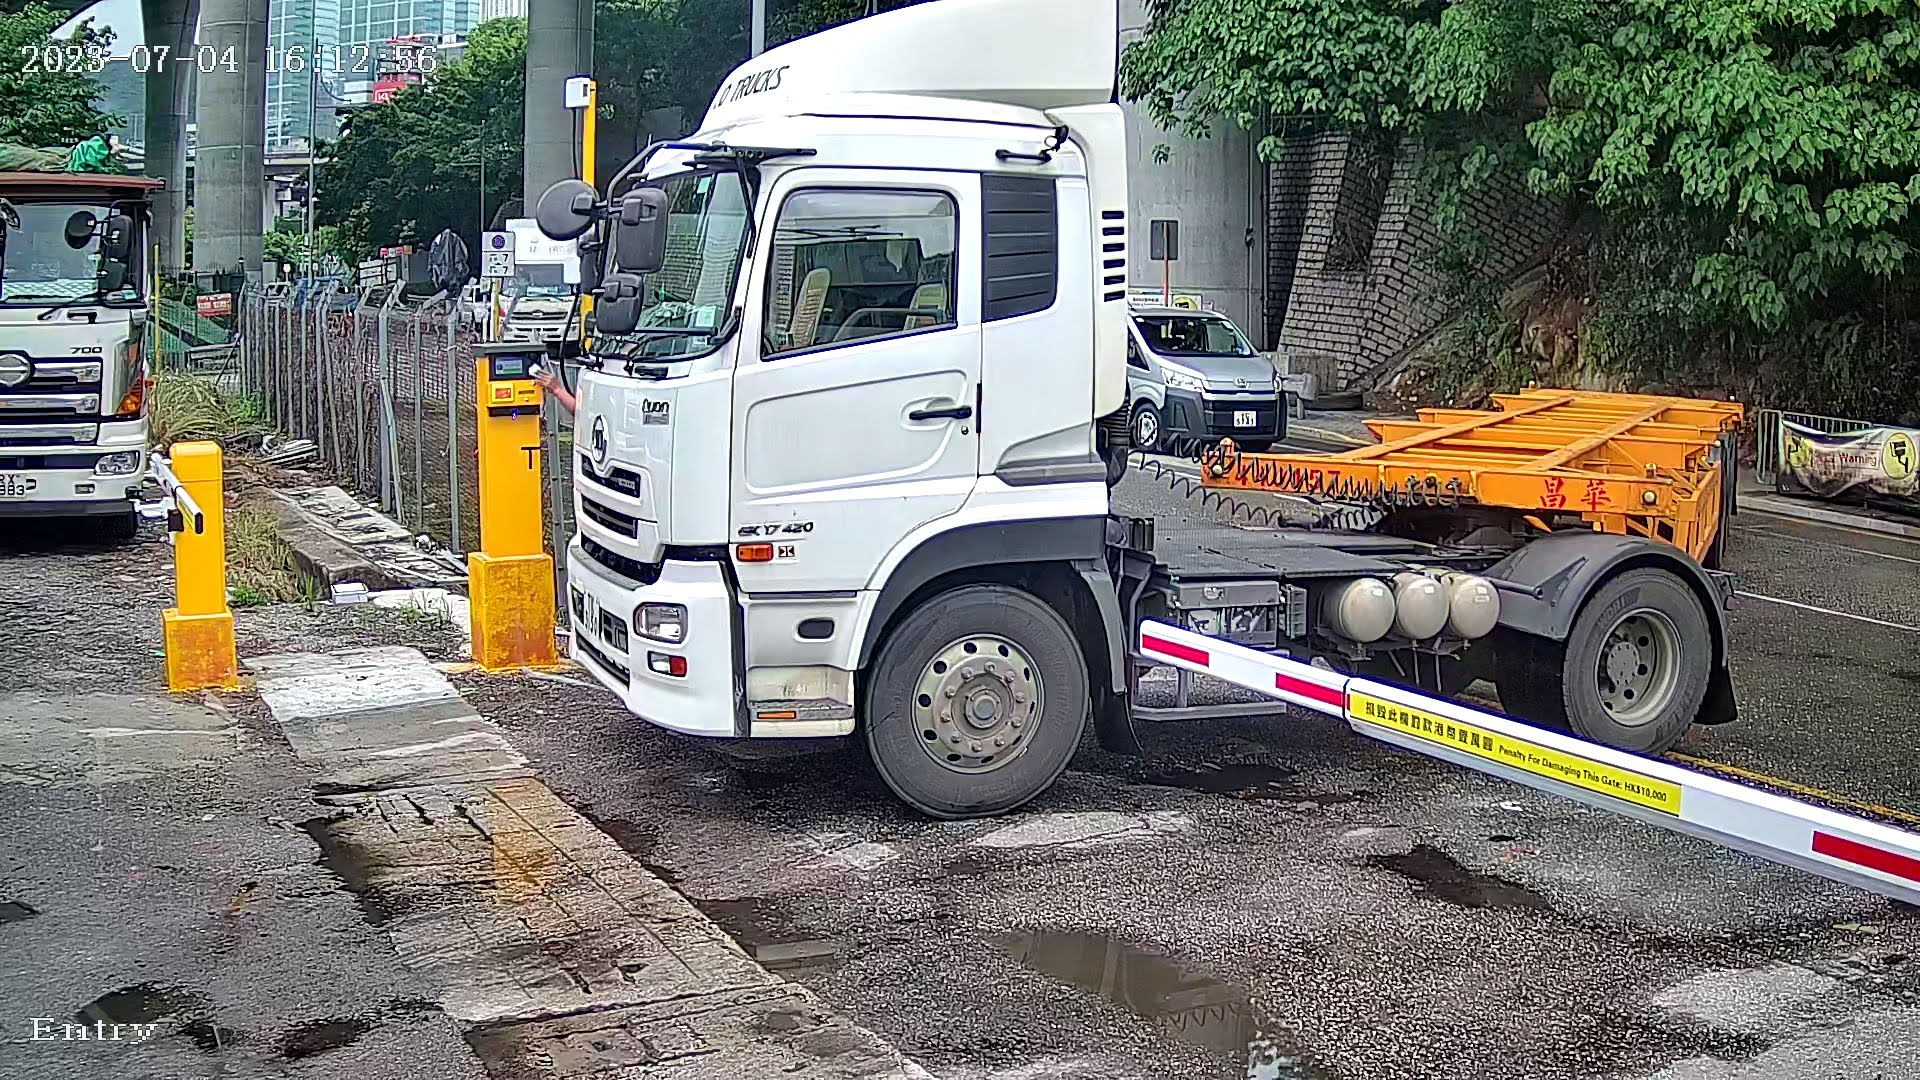tractor: (560, 1, 1758, 823)
